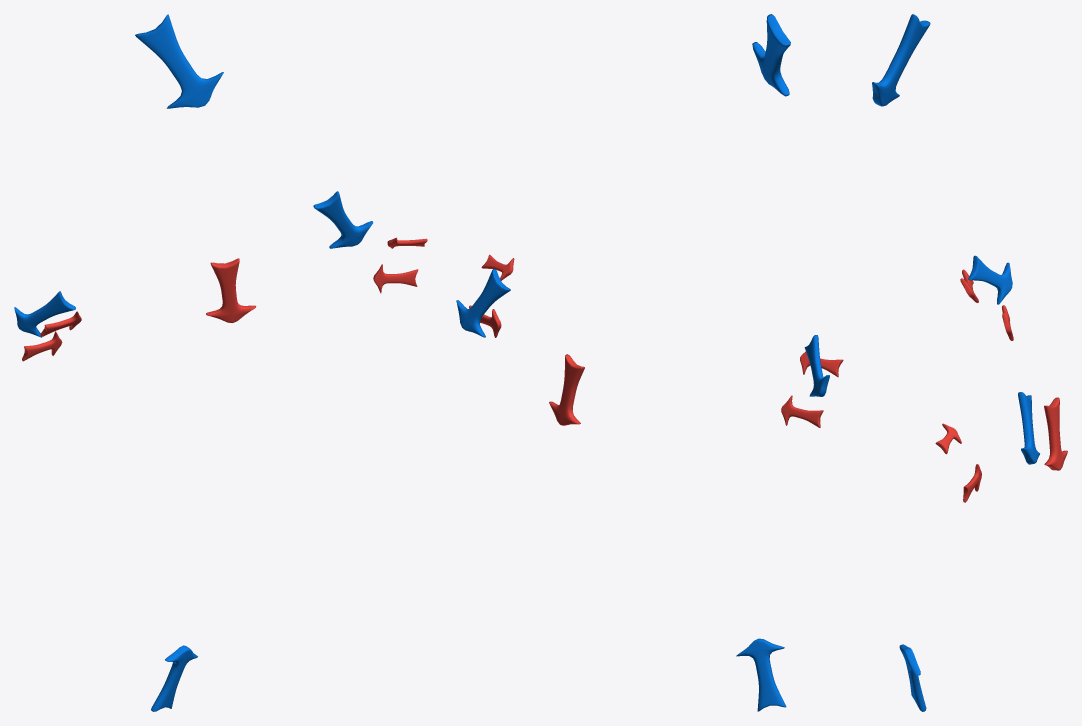
File: arrowflow2.glb
3 views of the same model, side by side, from view 1: azimuth 30°, elevation 25°; view 2: azimuth 150°, elevation 25°; view 3: azimuth 270°, elevation 25° (orthographic).
Visible parts, largest first — view 1: Cube.001; view 2: Cube.001; view 3: Cube.001.
Boxes of the visible parts, x1=… form: Cube.001: x1=14, y1=14, x2=427, y2=711; Cube.001: x1=456, y1=14, x2=843, y2=711; Cube.001: x1=872, y1=14, x2=1067, y2=711.
Size of the model in its own units: 4.69 by 8.18 by 2.09.
